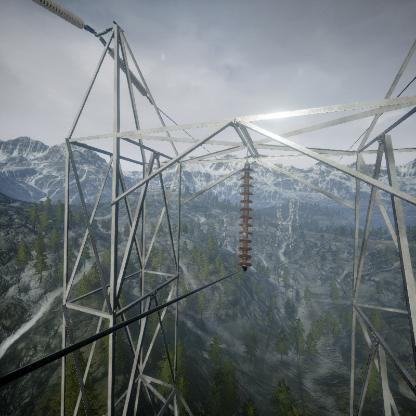insulator: (237, 162, 254, 270)
